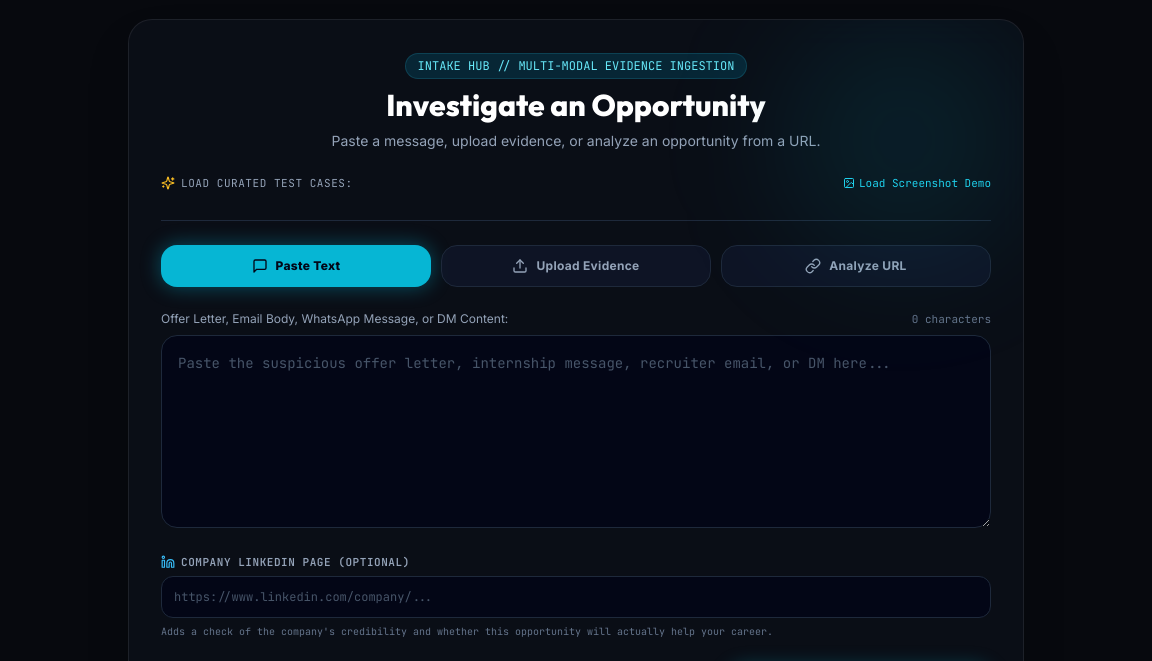
Test case: OpportunityIntake › asks for more text when the submission is too short
Replace the text in the text box named "Opportunity text" with "hi": (576,431) [161,334,991,528]
(page scrolled)
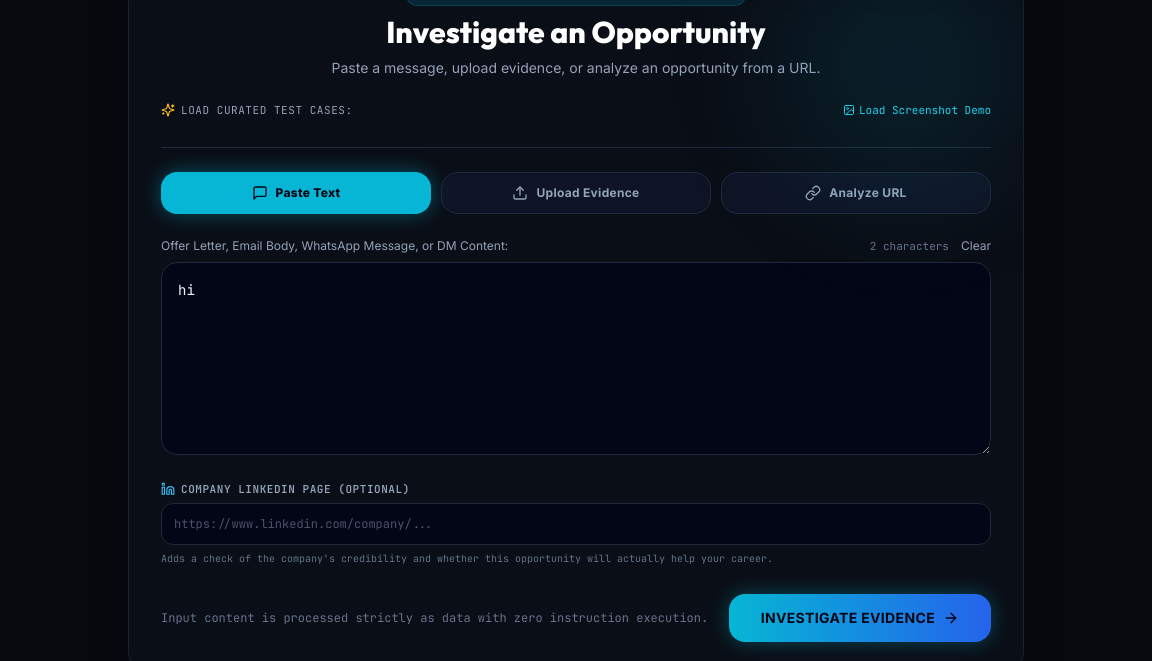
Submit the form named "Opportunity text", box [161,238,991,642]
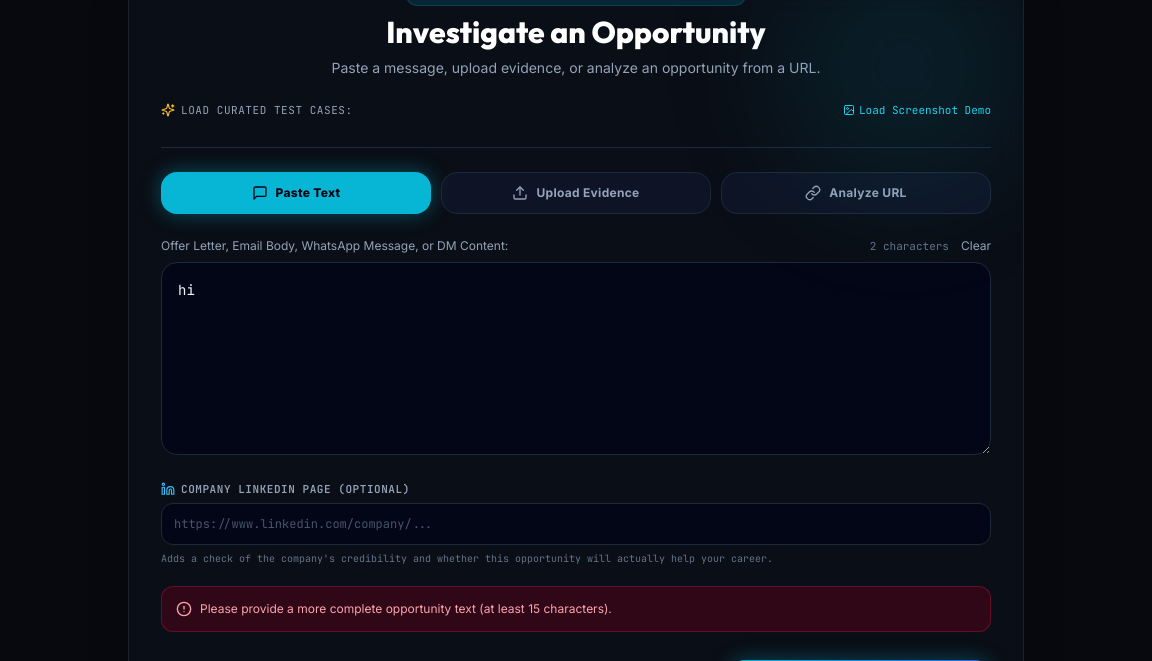
expect the text "at least 15 characters" is shown: met, box [200,601,612,616]
